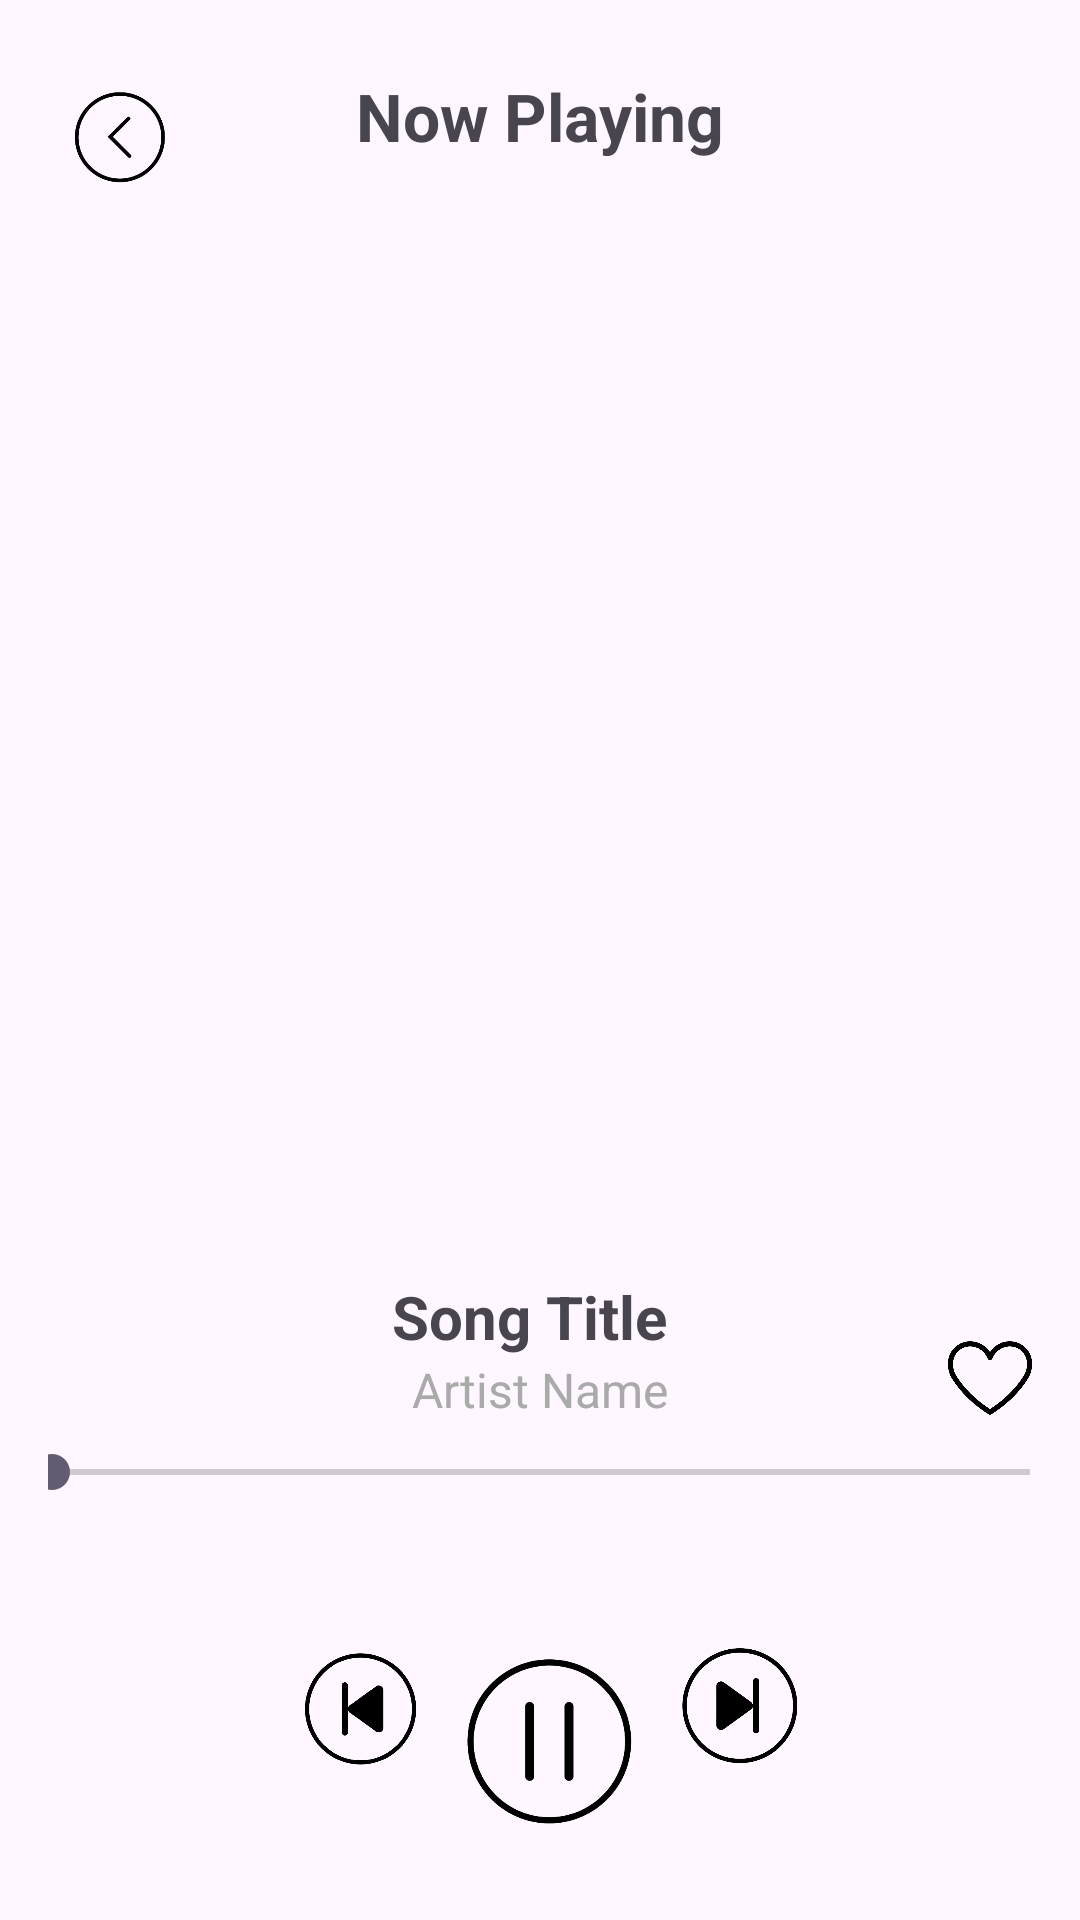

Named icons in this screenshot (1080×1920) and their centers, point (x, y):
Back: point (120, 137)
Favorite: point (990, 1378)
next: point (739, 1705)
pause: point (549, 1741)
previous: point (360, 1709)
